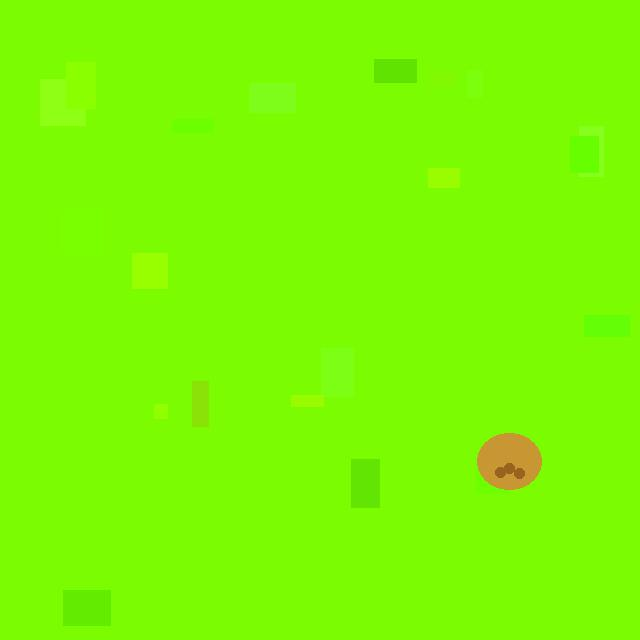damaged_crop: (476, 433, 541, 490)
